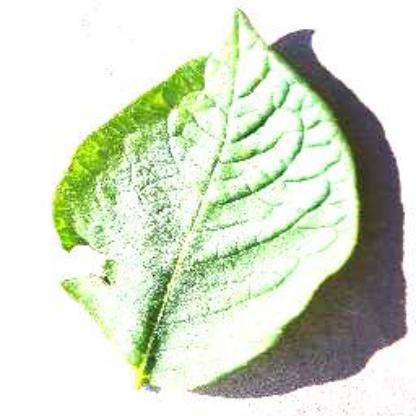Healthy-plant: (44, 15, 400, 403)
